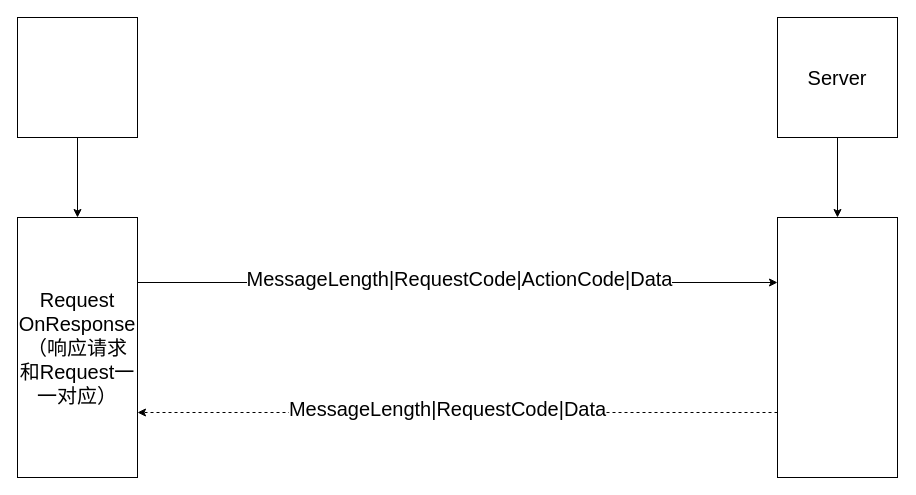
Some shapes in this 916 by 495 pixel diagram are drawn without their labels. The centre of each missing label's shape, as x and y in pixels:
Client: point 77,77
Controller （包含多个 RequestCode ActionCode）: point 837,347
